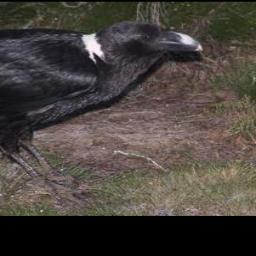Crow: (0, 19, 204, 208)
